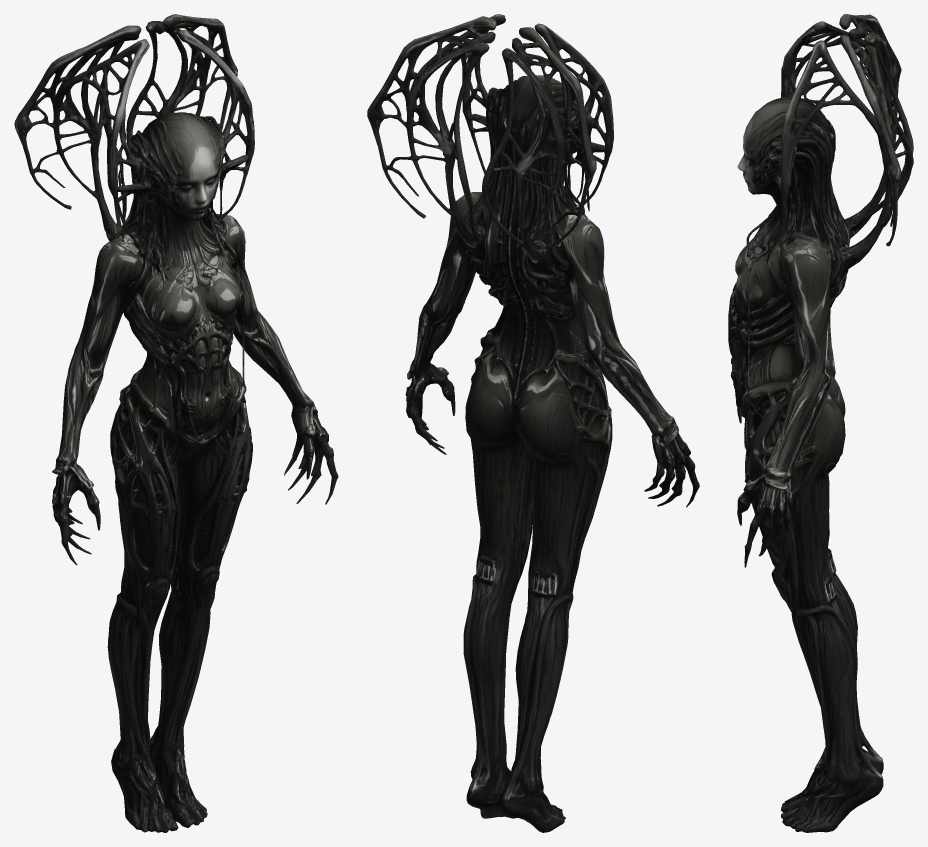
The model's file is nexmora__the_obsidian_matriarch.glb.
3 views of the same model, side by side, from view 1: azimuth 30°, elevation 25°; view 2: azimuth 150°, elevation 25°; view 3: azimuth 270°, elevation 25° (orthographic). The views are drawn at different scales.
Visible parts, largest first — view 1: nexmora__the_obsidian_matriarch; view 2: nexmora__the_obsidian_matriarch; view 3: nexmora__the_obsidian_matriarch.
Boxes of the visible parts, <box> form: nexmora__the_obsidian_matriarch: <box>14,14,338,832</box>; nexmora__the_obsidian_matriarch: <box>367,14,699,832</box>; nexmora__the_obsidian_matriarch: <box>728,14,913,832</box>.
Bounding box in the file's own units: 1.32 × 3.6 × 0.7642.
Materials: 1 (1 with a texture image).
